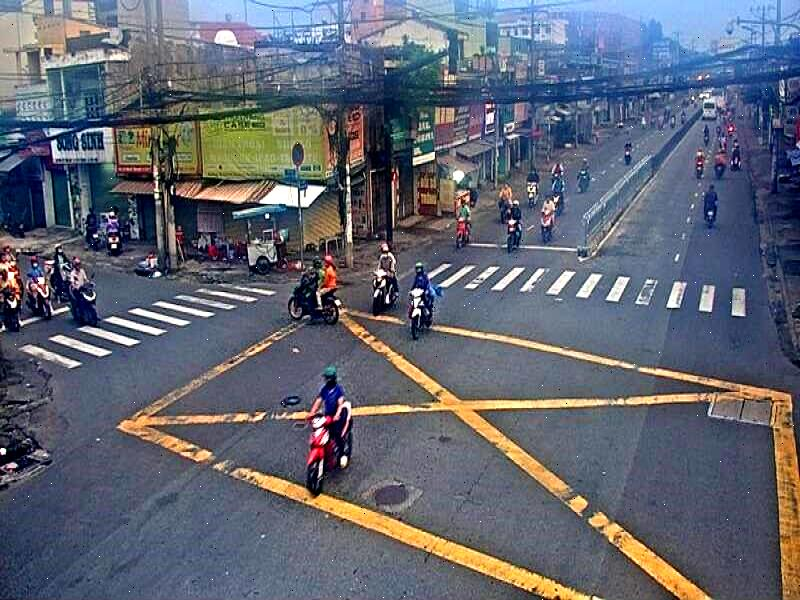motorcycle: (309, 402, 353, 496), (287, 272, 341, 328), (68, 282, 99, 325), (408, 286, 426, 339), (373, 268, 389, 317), (503, 217, 523, 253), (540, 209, 555, 244), (456, 217, 471, 249)
